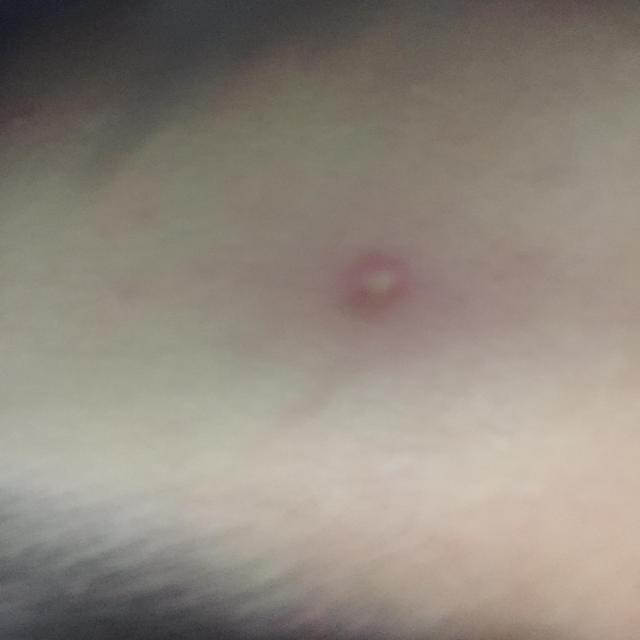blackheads: (325, 231, 437, 337)
